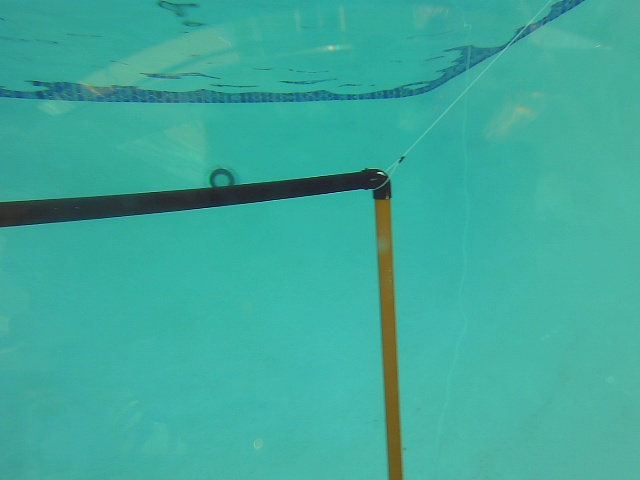Gate: (372, 186, 410, 480)
